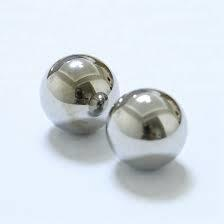steelball: (35, 43, 118, 153), (107, 84, 193, 175)
